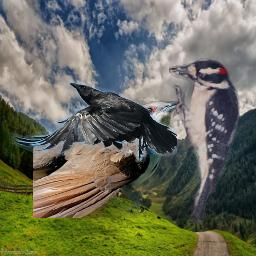Crow: (10, 81, 177, 162)
Cuckoo: (33, 101, 185, 218)
Woodpecker: (169, 56, 242, 222)
